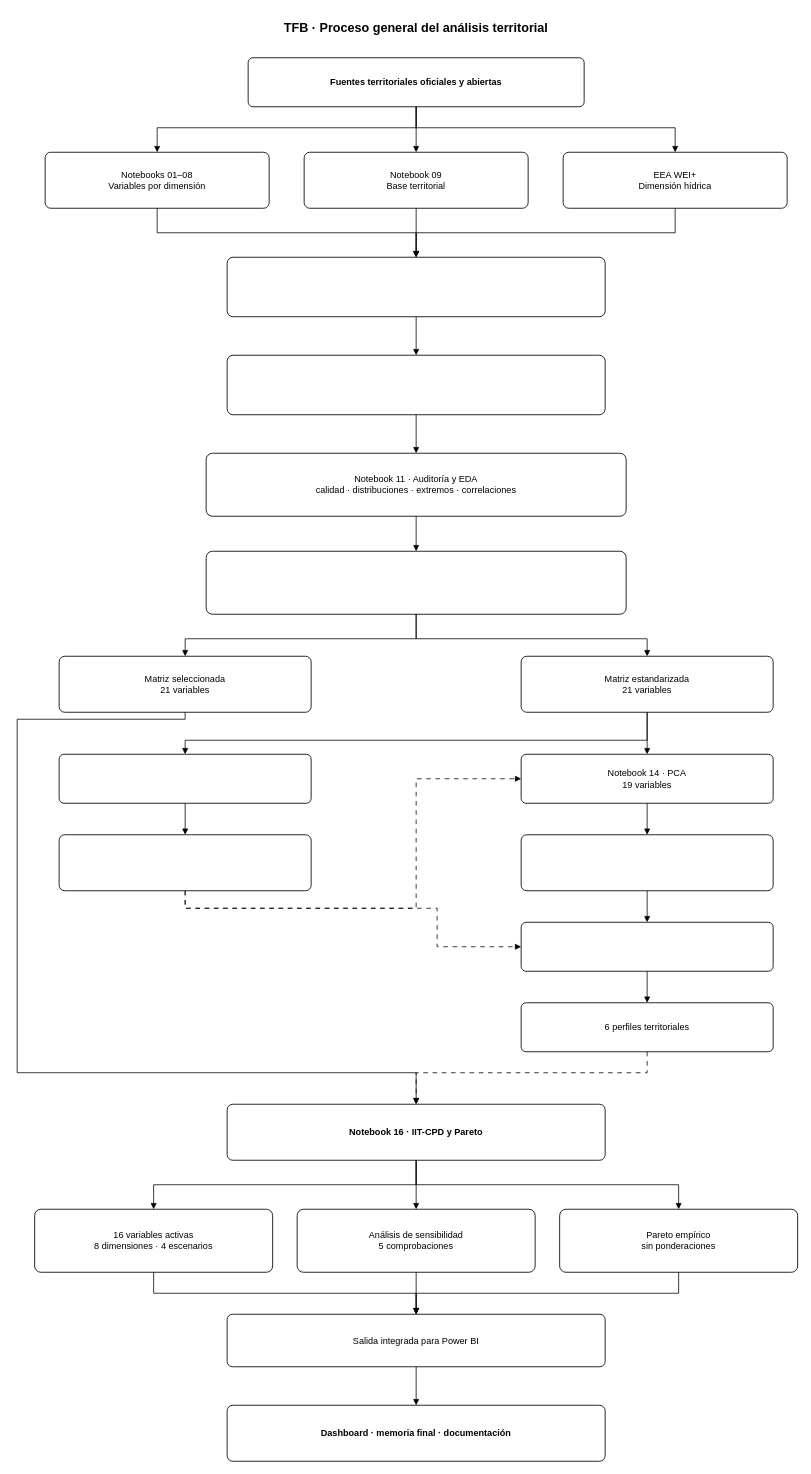
Image size: 811x1474. Some labels were removed from this diagram. The centre of each missing label's shape, as x and y in pixels:
3 componentes 74,54 % de varianza: [646,862]
Diagnóstico de singularidades sin eliminar territorios: [184,862]
Matriz comparable 22 territorios · 74 variables analíticas: [415,384]
Notebook 10 · Dataset maestro 23 territorios · 22 NUTS 2 comparables: [415,286]
Notebook 12 · Preparación multivariante selección · log1p · estandarización: [415,582]
Notebook 13 · Isolation Forest: [184,778]
Notebook 15 · K-Means: [646,946]
